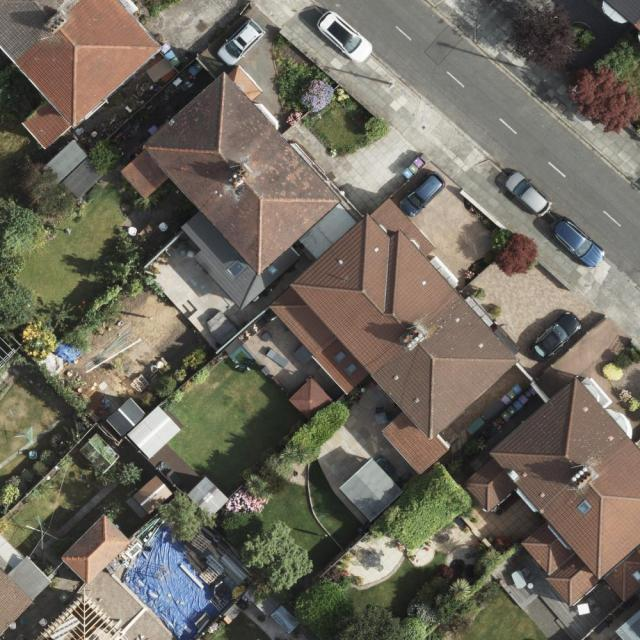roof: (119, 63, 521, 474), (463, 378, 640, 609), (0, 0, 162, 149), (61, 513, 131, 584), (0, 556, 54, 636), (286, 380, 335, 426), (604, 0, 640, 35)
skylight: (226, 257, 249, 281), (575, 498, 592, 516), (332, 347, 348, 363), (342, 362, 358, 376), (267, 263, 278, 276)
